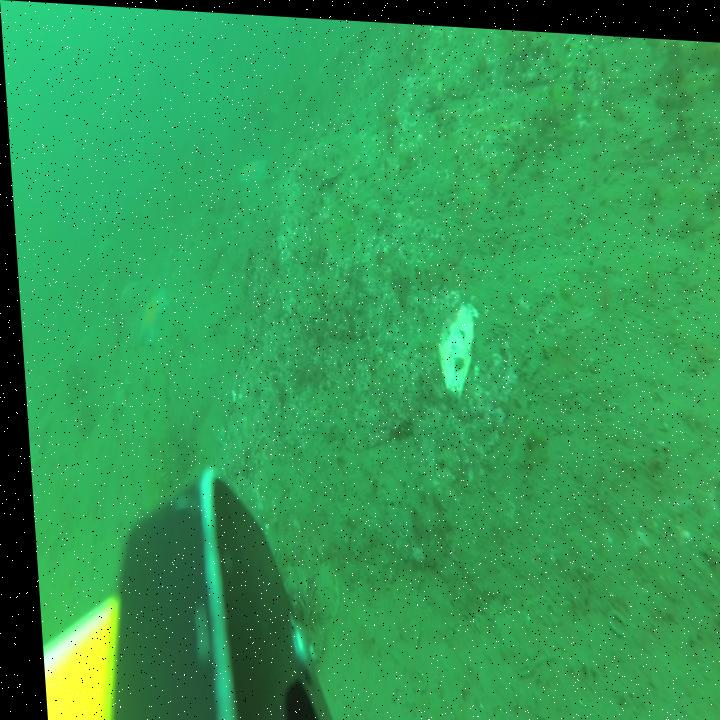holothurian: (102, 375, 127, 423)
starfish: (131, 283, 169, 348), (234, 155, 267, 187)
